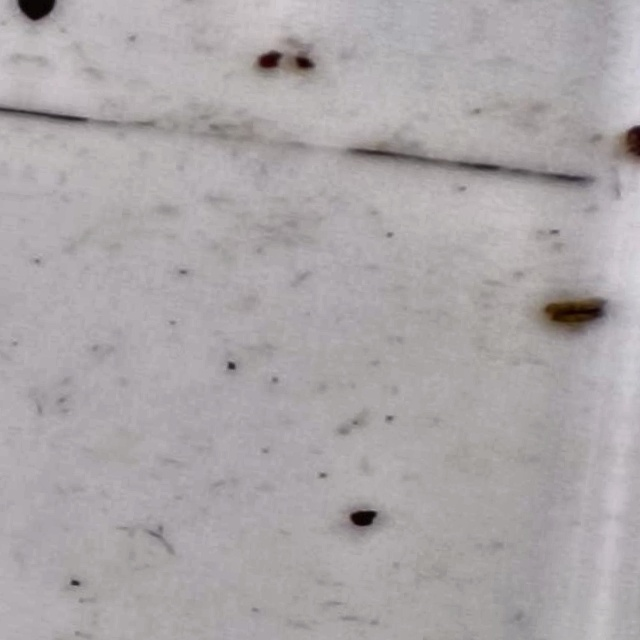varroa: (540, 297, 607, 333)
